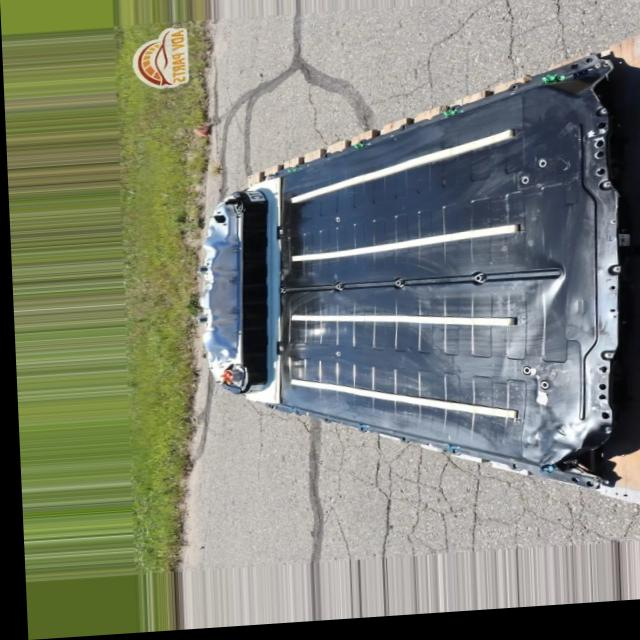Nut: (586, 374, 609, 429), (387, 283, 409, 296), (329, 287, 348, 299), (471, 280, 489, 292), (273, 292, 294, 301)
Screw: (329, 352, 351, 369), (515, 181, 536, 195), (517, 373, 535, 388), (534, 387, 551, 401), (537, 166, 554, 177)
